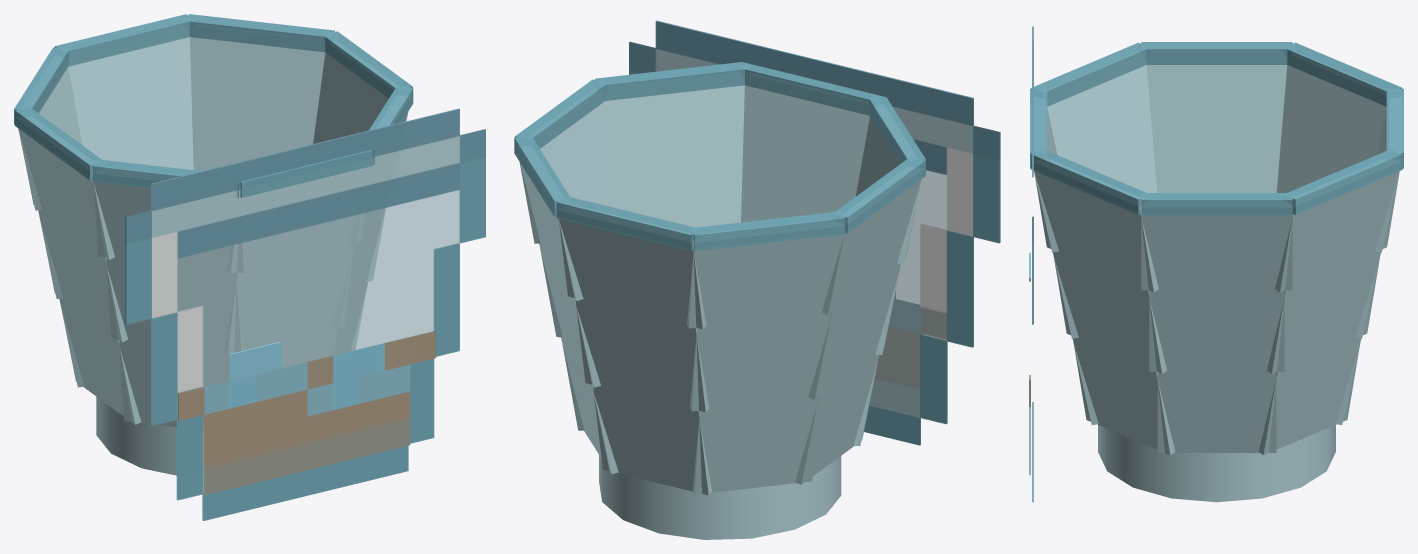
Rendered from CMU3DDrinkWhiskeyGlass.glb.
The picture shows the model from 3 angles, left to right: view 1: azimuth 30°, elevation 25°; view 2: azimuth 150°, elevation 25°; view 3: azimuth 270°, elevation 25°; orthographic projection. The views are drawn at different scales.
Parts seen in each view (by area): view 1: base original source artwork, fill original source artwork, hollow wall tier 3 facet 2, hollow wall tier 3 facet 3, hollow wall tier 2 facet 7, hollow wall tier 2 facet 6, hollow wall tier 2 facet 5, hollow wall tier 3 facet 5, hollow wall tier 1 facet 5, hollow wall tier 3 facet 1, hollow wall tier 3 facet 6, heavy glass foot (+16 smaller); view 2: base original source artwork, hollow wall tier 3 facet 8, heavy glass foot, hollow wall tier 3 facet 7, hollow wall tier 3 facet 4, hollow wall tier 2 facet 4, hollow wall tier 3 facet 3, hollow wall tier 2 facet 3, hollow wall tier 1 facet 4, hollow wall tier 1 facet 3, hollow wall tier 2 facet 5, hollow wall tier 3 facet 1 (+18 smaller); view 3: hollow wall tier 3 facet 5, hollow wall tier 3 facet 1, heavy glass foot, hollow wall tier 2 facet 1, hollow wall tier 1 facet 1, hollow wall tier 3 facet 6, hollow wall tier 3 facet 4, hollow wall tier 3 facet 8, hollow wall tier 3 facet 2, hollow wall tier 2 facet 2, hollow wall tier 2 facet 8, hollow wall tier 1 facet 8 (+16 smaller).
Part boxes in pixels (bbox=[...]): base original source artwork: bbox=[125, 108, 485, 520]; fill original source artwork: bbox=[178, 331, 435, 495]; hollow wall tier 3 facet 2: bbox=[190, 37, 325, 138]; hollow wall tier 3 facet 3: bbox=[68, 37, 192, 150]; hollow wall tier 2 facet 7: bbox=[224, 244, 353, 353]; hollow wall tier 2 facet 6: bbox=[106, 257, 242, 352]; hollow wall tier 2 facet 5: bbox=[38, 210, 128, 342]; hollow wall tier 3 facet 5: bbox=[18, 128, 114, 259]; hollow wall tier 1 facet 5: bbox=[59, 298, 140, 424]; hollow wall tier 3 facet 1: bbox=[313, 52, 408, 142]; hollow wall tier 3 facet 6: bbox=[93, 182, 245, 272]; heavy glass foot: bbox=[96, 397, 203, 475]; base original source artwork: bbox=[629, 20, 1000, 445]; hollow wall tier 3 facet 8: bbox=[605, 85, 744, 191]; heavy glass foot: bbox=[599, 455, 841, 539]; hollow wall tier 3 facet 7: bbox=[742, 85, 869, 202]; hollow wall tier 3 facet 4: bbox=[687, 234, 843, 328]; hollow wall tier 2 facet 4: bbox=[690, 312, 830, 411]; hollow wall tier 3 facet 3: bbox=[558, 219, 706, 329]; hollow wall tier 2 facet 3: bbox=[575, 299, 709, 412]; hollow wall tier 1 facet 4: bbox=[692, 397, 817, 494]; hollow wall tier 1 facet 3: bbox=[593, 385, 712, 495]; hollow wall tier 2 facet 5: bbox=[808, 263, 900, 399]; hollow wall tier 3 facet 1: bbox=[519, 101, 617, 243]; hollow wall tier 3 facet 5: bbox=[1146, 65, 1287, 153]; hollow wall tier 3 facet 1: bbox=[1141, 215, 1292, 290]; heavy glass foot: bbox=[1098, 425, 1335, 502]; hollow wall tier 2 facet 1: bbox=[1149, 288, 1284, 371]; hollow wall tier 1 facet 1: bbox=[1157, 370, 1276, 452]; hollow wall tier 3 facet 6: bbox=[1047, 65, 1153, 174]; hollow wall tier 3 facet 4: bbox=[1280, 65, 1386, 174]; hollow wall tier 3 facet 8: bbox=[1034, 171, 1158, 292]; hollow wall tier 3 facet 2: bbox=[1275, 171, 1399, 292]; hollow wall tier 2 facet 2: bbox=[1267, 251, 1380, 373]; hollow wall tier 2 facet 8: bbox=[1053, 251, 1166, 373]; hollow wall tier 1 facet 8: bbox=[1073, 337, 1175, 455].
Size of what is drawn, in the model's own units: 0.4375 by 0.4062 by 0.394.
5 materials, 2 textured.
